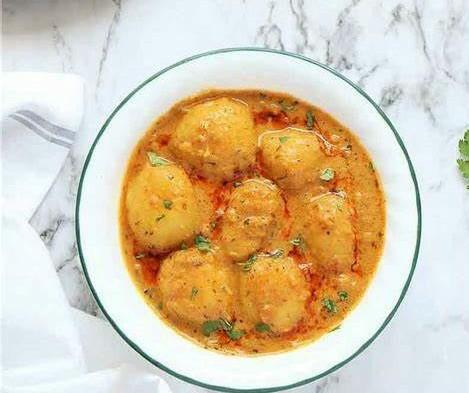DumAloo: (118, 89, 385, 355)
